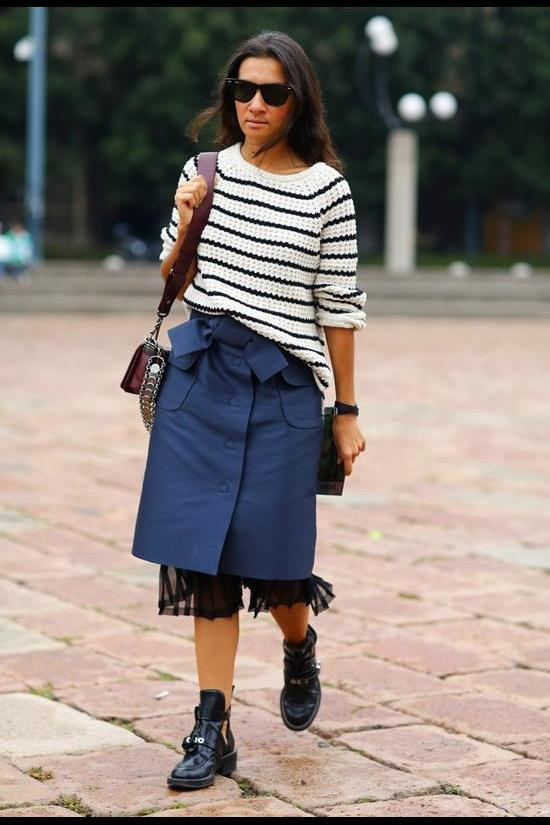skirt: (131, 314, 335, 616)
sweater: (160, 140, 366, 392)
